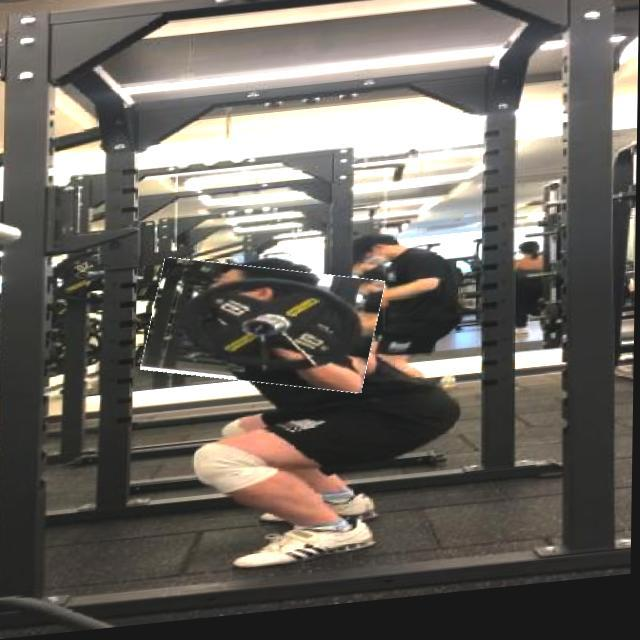barbell: (147, 255, 384, 409)
